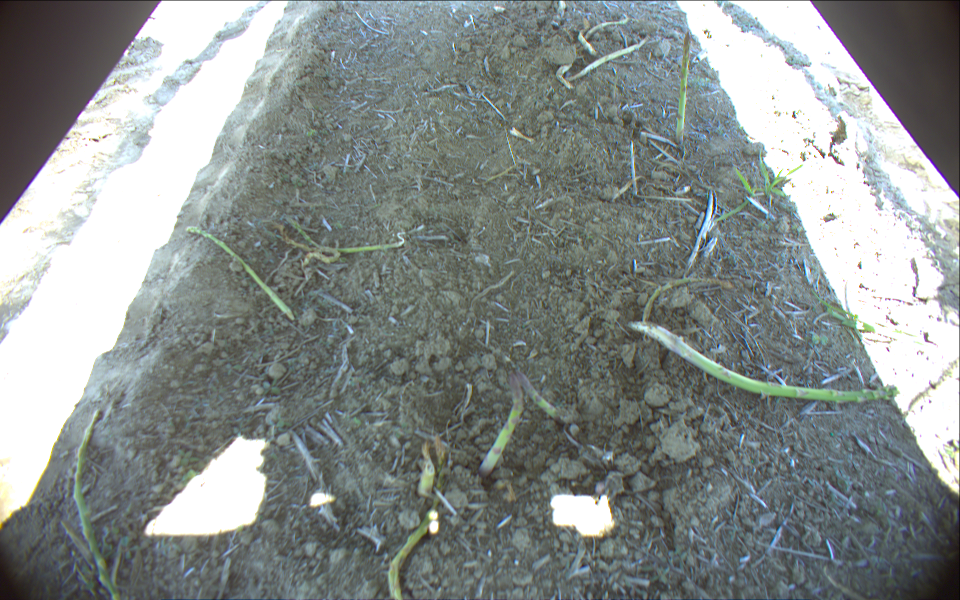aspa: (628, 321, 899, 405), (382, 433, 448, 600), (183, 227, 295, 321), (73, 408, 122, 600), (478, 369, 524, 477), (643, 275, 735, 322), (568, 35, 653, 81), (292, 219, 410, 251), (516, 368, 558, 421), (675, 30, 691, 148), (585, 13, 631, 37), (307, 243, 342, 268), (413, 461, 435, 499), (577, 30, 596, 58), (557, 63, 572, 90)
